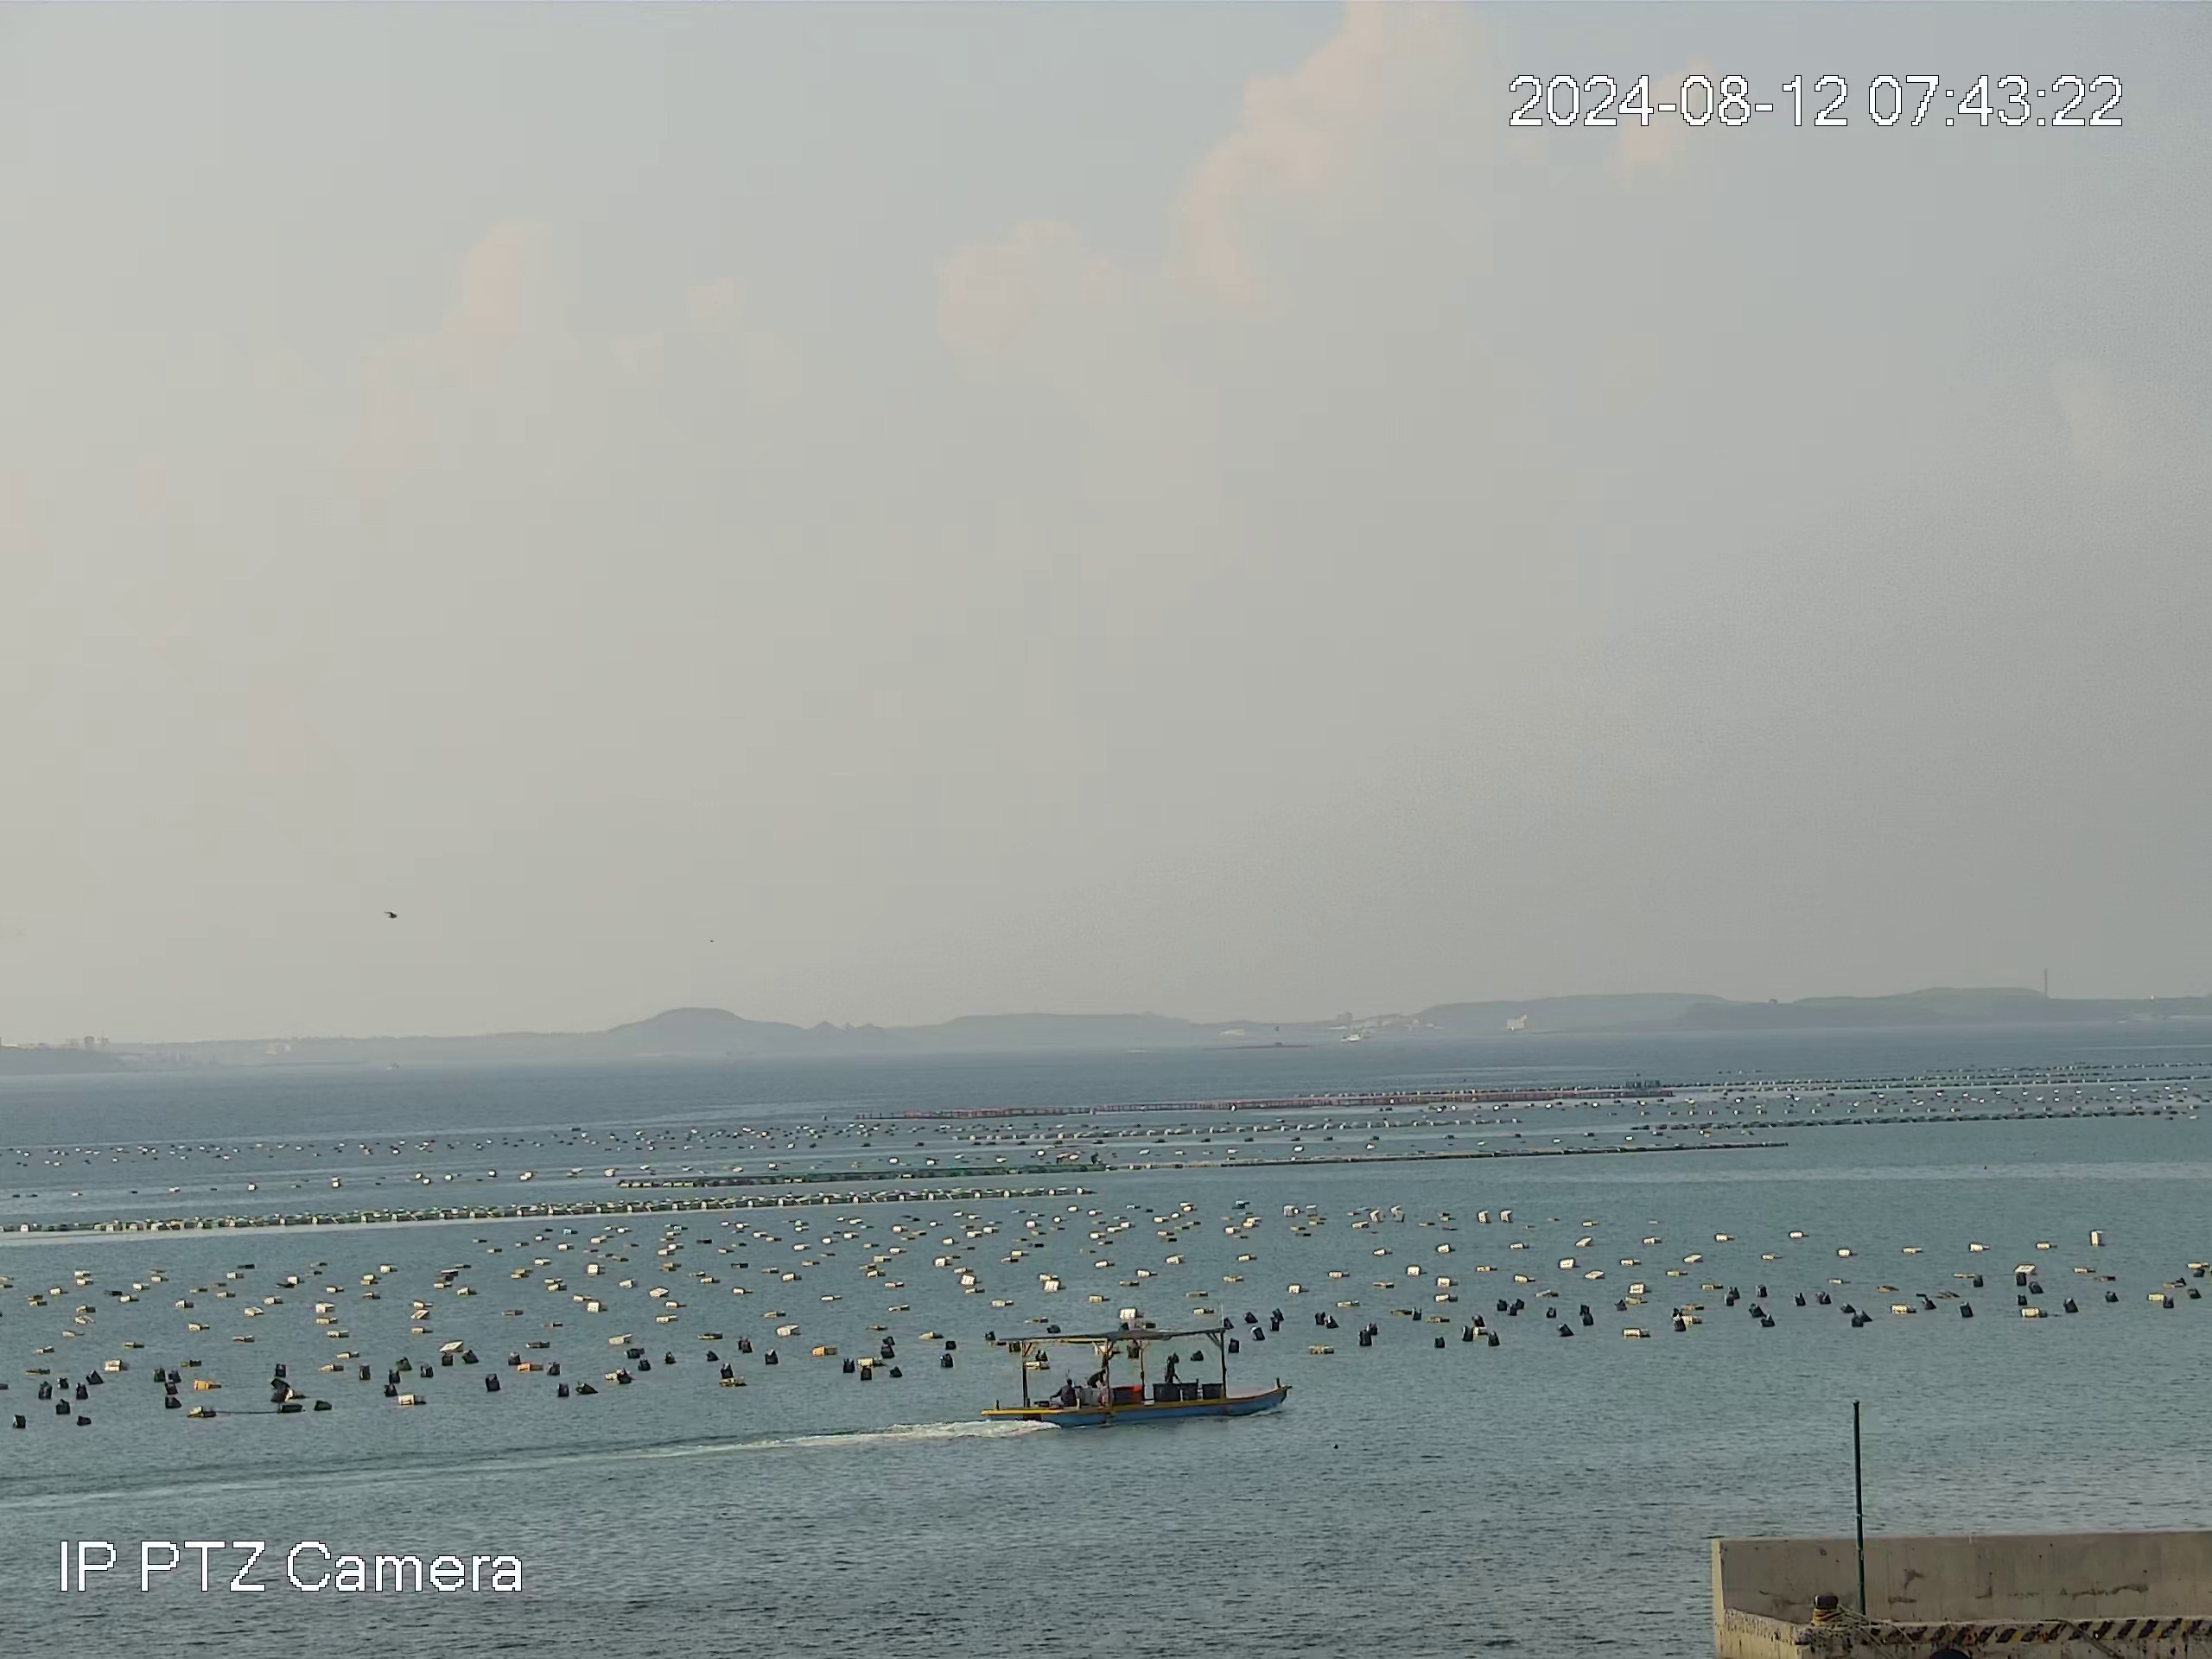boat: (984, 1316, 1296, 1436)
